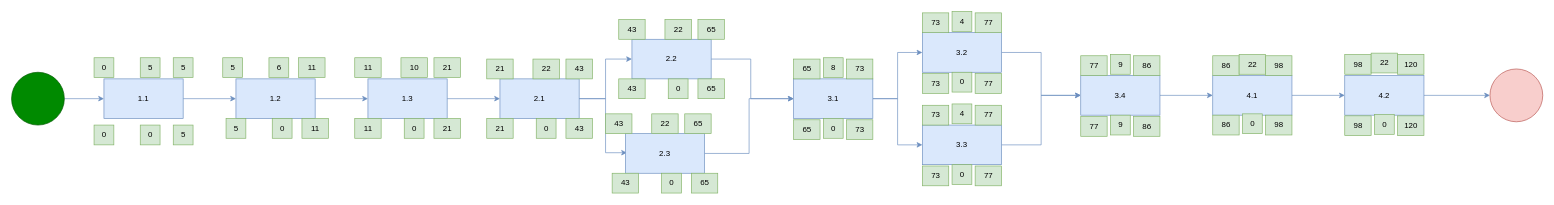
This 1554x205 diagram has some shape labels left out. Each missing label, with the box of its shape:
Finish: (1489, 68, 1543, 122)
Start: (11, 72, 64, 125)
